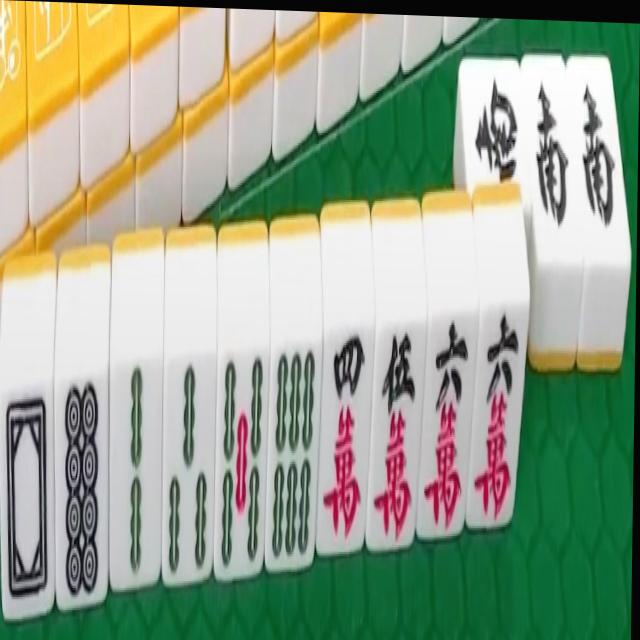bai: (0, 379, 54, 615)
m4: (318, 332, 369, 557)
m5: (370, 320, 421, 553)
m6: (472, 294, 522, 533), (423, 311, 468, 536)
s2: (107, 363, 163, 570)
s3: (161, 360, 216, 582)
s5: (213, 332, 268, 582)
s6: (267, 341, 317, 565)
south: (573, 60, 624, 265), (527, 56, 576, 256), (468, 64, 525, 189)
t8: (54, 359, 108, 604)
